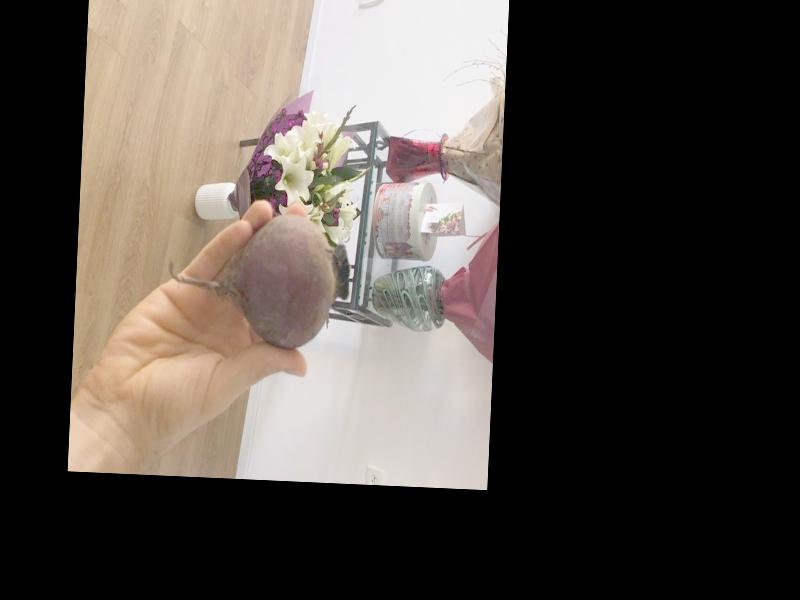Beet: (166, 208, 352, 351)
